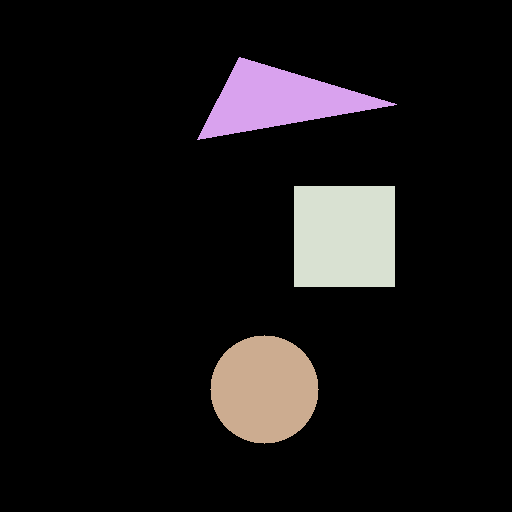circle: (210, 335, 318, 443)
square: (294, 186, 394, 286)
triangle: (197, 57, 396, 139)
